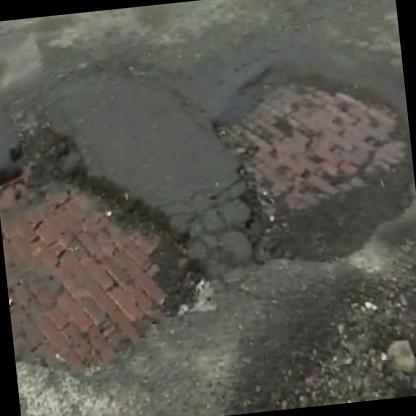pothole: (0, 108, 220, 375), (204, 57, 416, 272)
